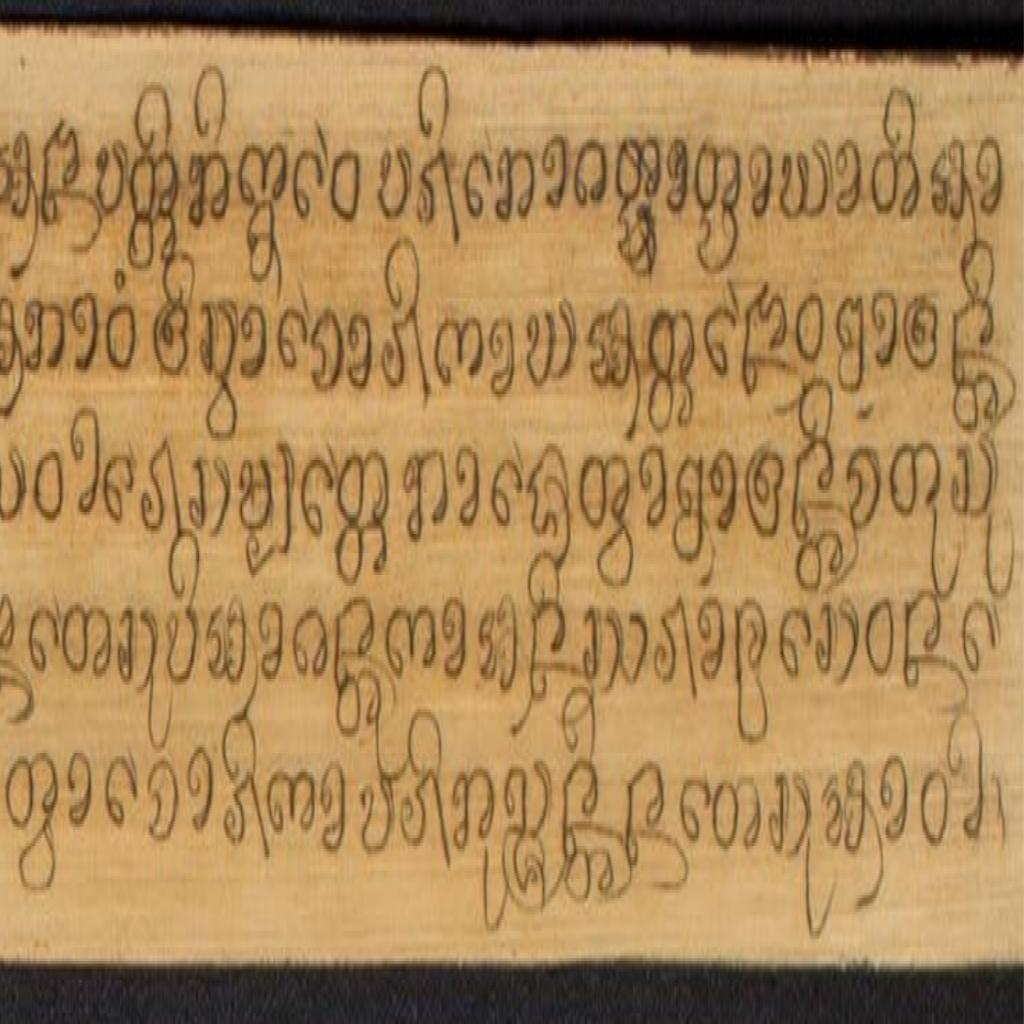LN008: (525, 430, 574, 546)
